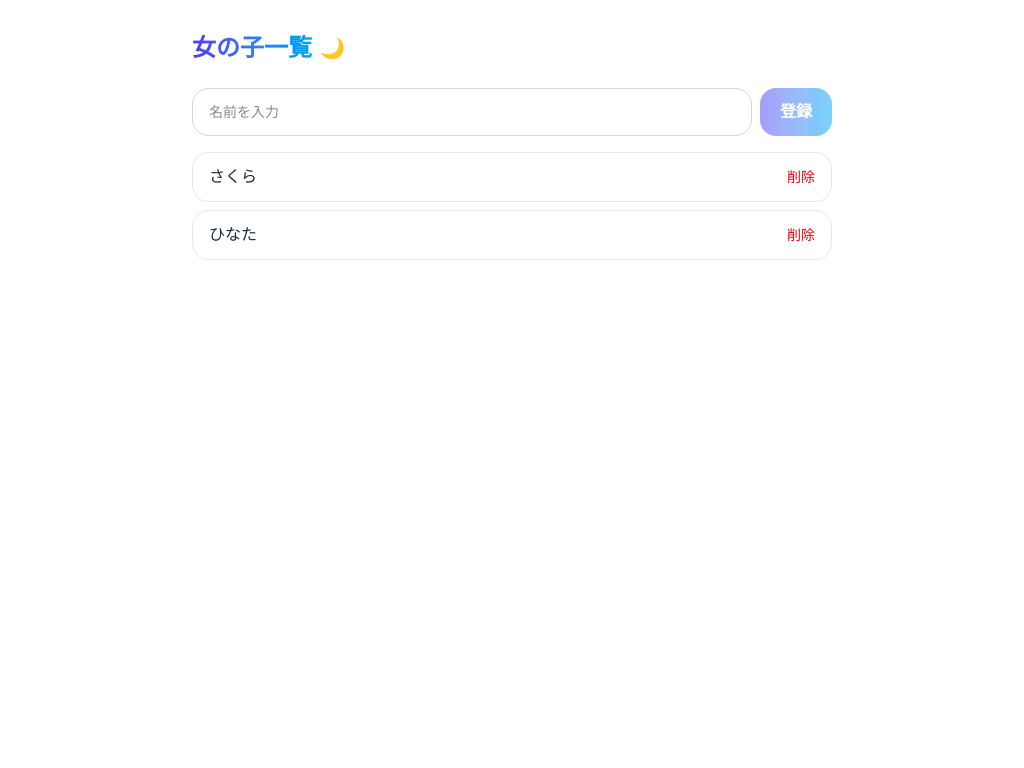
it: 女の子一覧ページ › 削除ボタン→ダイアログの「削除する」で削除される
Expected: the text "さくら" is shown, [209,165,257,189]
Expected: the text "ひなた" is shown, [209,223,257,247]
// 最初の削除ボタン（さくら）でダイアログを開く
Click the button "削除" in the row of "さくら" at coordinates (801, 177), box [787,167,815,187]
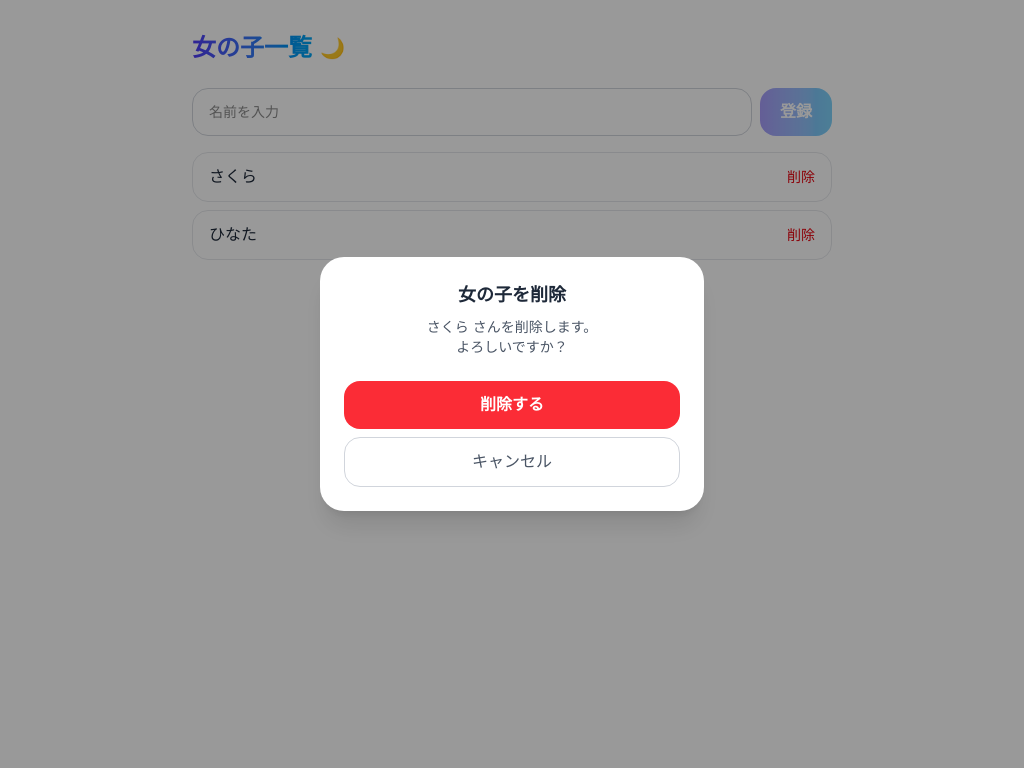
Expected: the button "削除する" is shown
Click the button "削除する" at coordinates (512, 405), box [344,381,680,429]
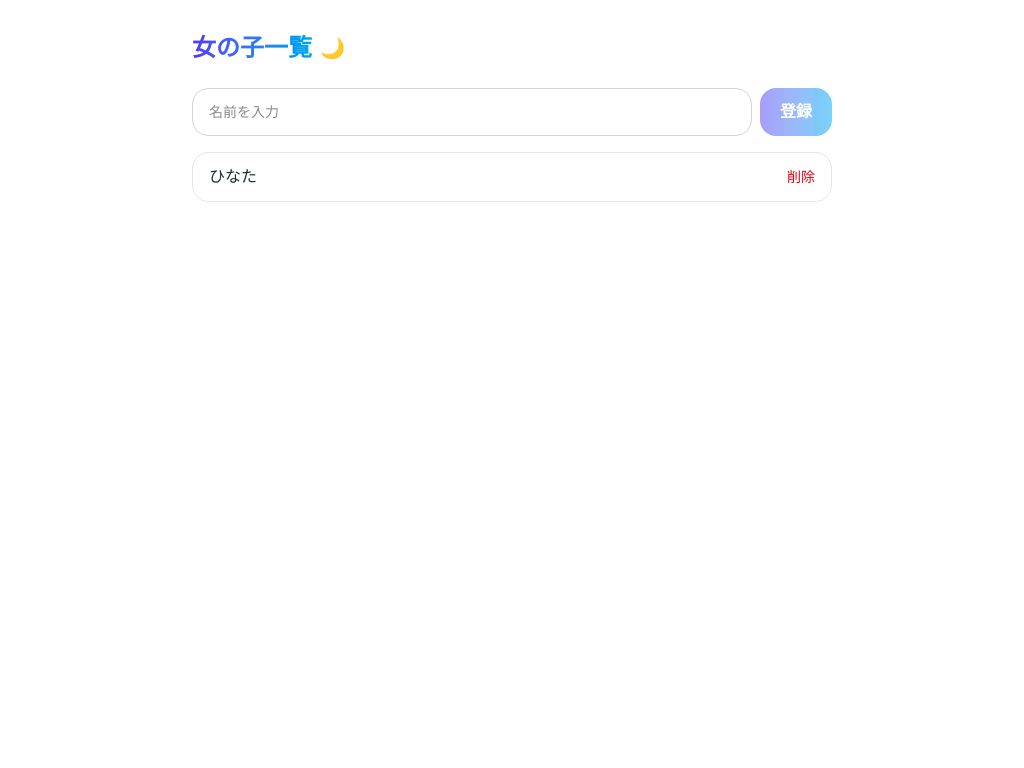
Expected: the text "ひなた" is shown, [209,165,257,189]
Expected: the text "さくら" is gone
